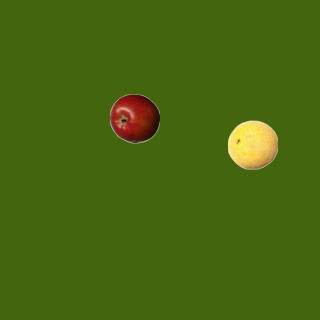Apple Braeburn: (109, 93, 159, 143)
Cantaloupe 1: (227, 119, 277, 169)
